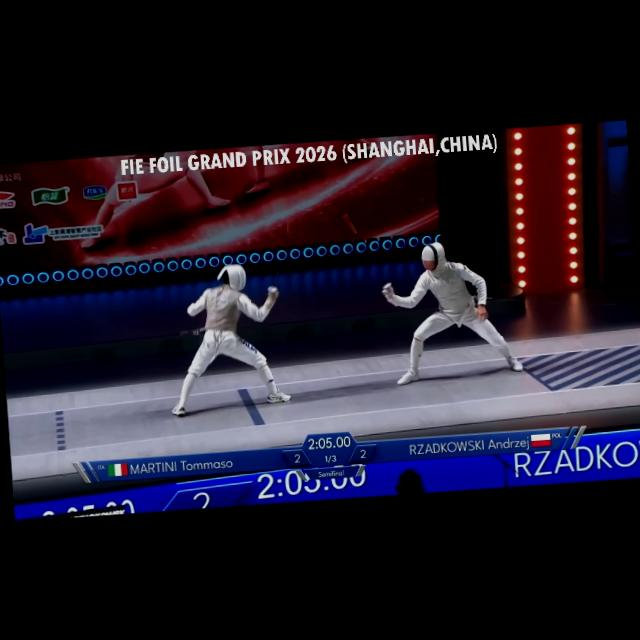blade: (338, 205, 399, 296), (260, 208, 302, 297)
